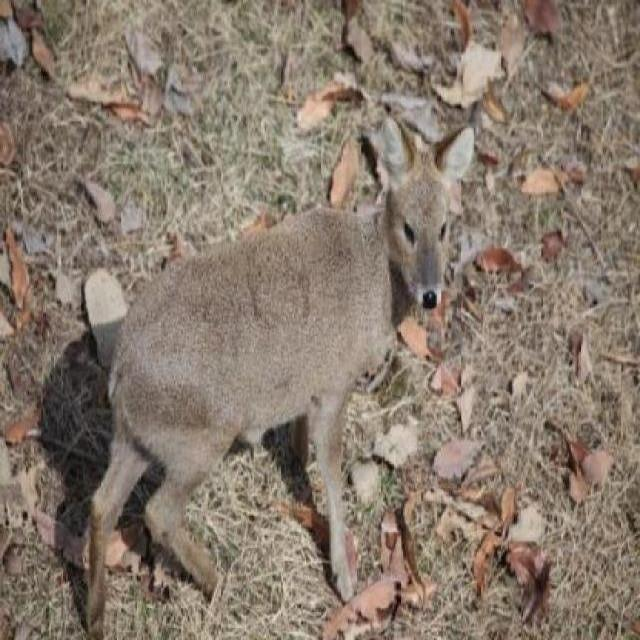deer: (51, 116, 488, 639)
